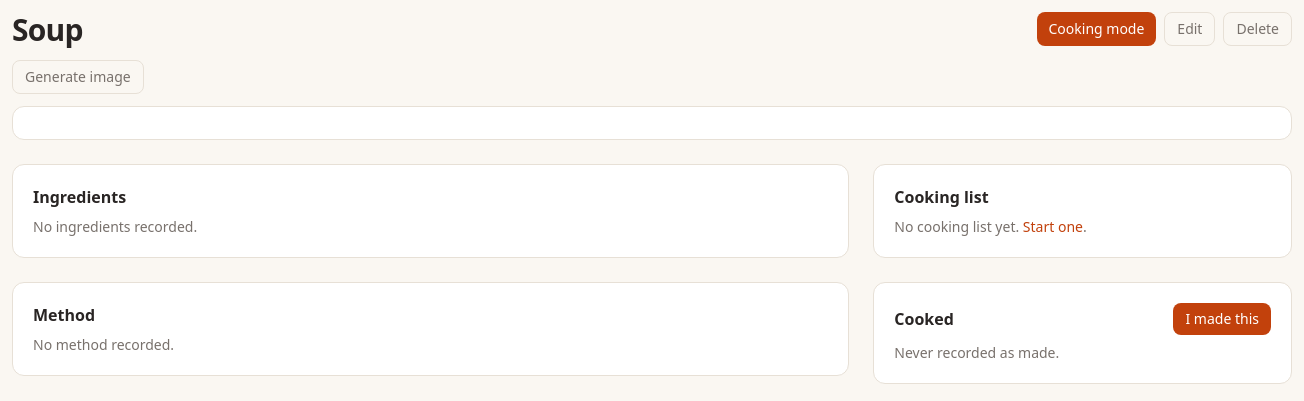
Test: RecipeDetailPage generate image button › shows an error message and keeps the button when generation fails
This screenshot has width=1304, height=401.
Click the button "Generate image".
click(78, 77)  # box [12, 60, 144, 94]
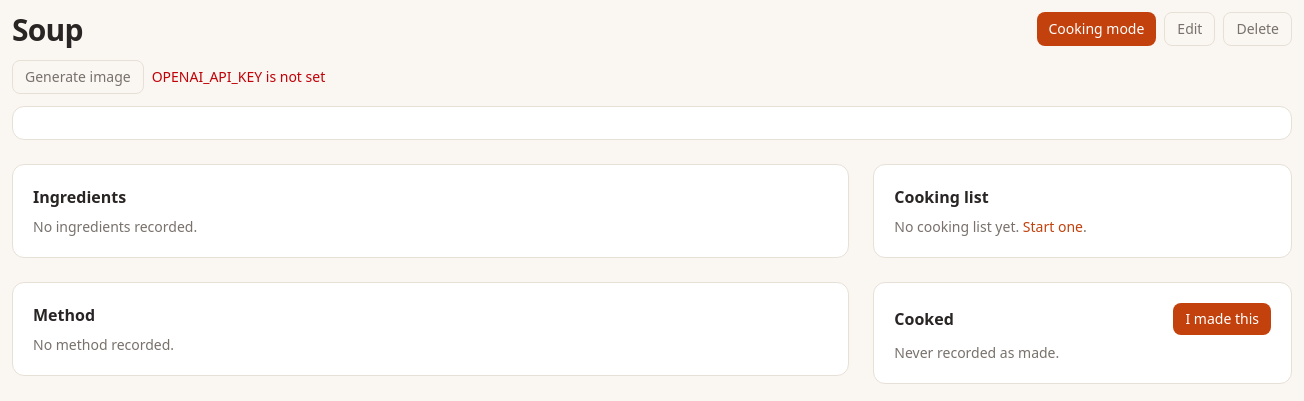
Expected: the text "OPENAI_API_KEY is not set" is shown, [152, 67, 325, 87]
